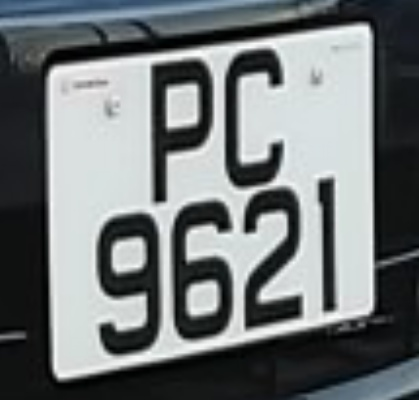1: (306, 171, 350, 322)
2: (234, 180, 316, 342)
6: (157, 195, 241, 350)
9: (78, 202, 172, 366)
C: (213, 44, 305, 196)
P: (132, 51, 222, 209)
